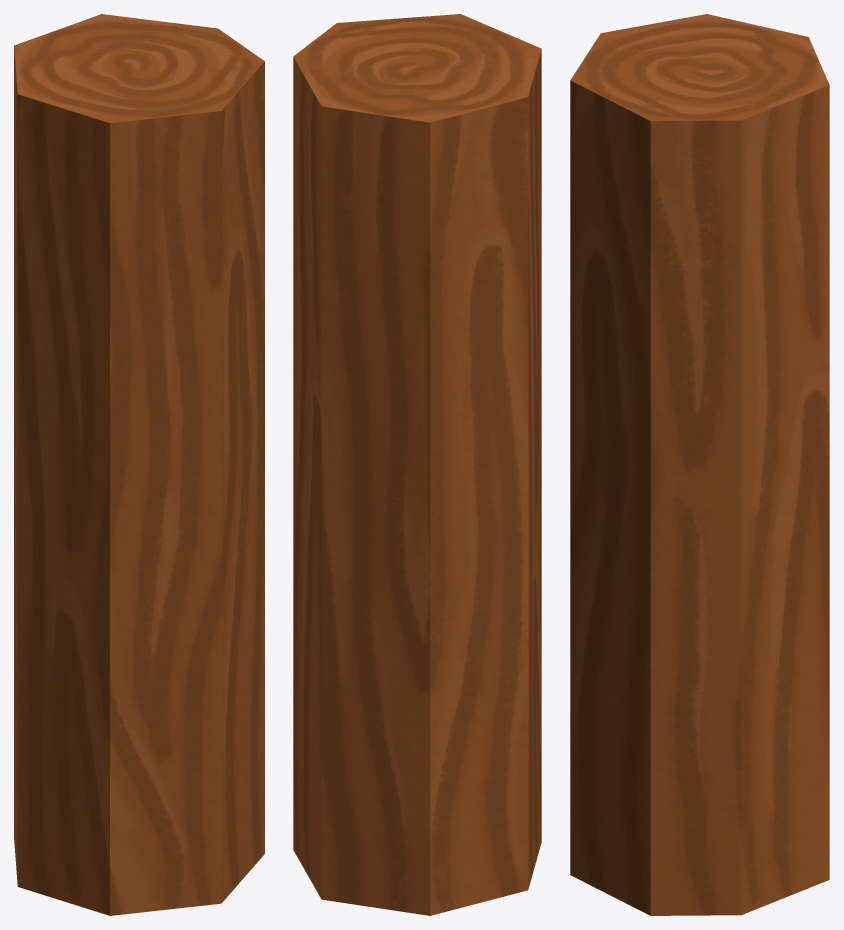
The model's file is fencePost.fbx.
3 renders of one model, left to right at view 1: azimuth 30°, elevation 25°; view 2: azimuth 150°, elevation 25°; view 3: azimuth 270°, elevation 25°, orthographic.
Visible parts, largest first — view 1: fencePost; view 2: fencePost; view 3: fencePost.
Part boxes in pixels (box(x1,y1,x2,y2)): fencePost: box(14, 14, 264, 915); fencePost: box(293, 14, 541, 915); fencePost: box(570, 14, 829, 915).
Size of the model in its own units: 76.44 by 264 by 78.13.
1 material, 1 textured.
